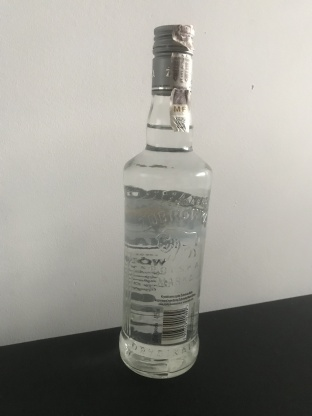nakretka: (150, 22, 195, 95)
